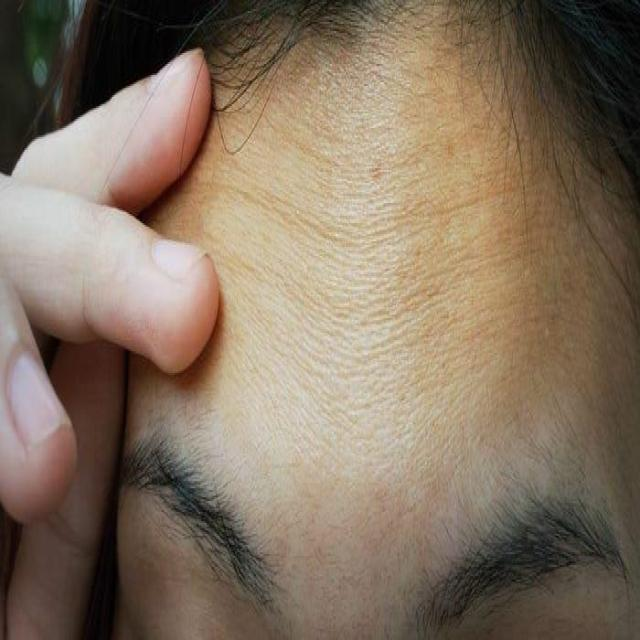Wrinkles: (224, 211, 547, 335), (216, 164, 558, 251)
